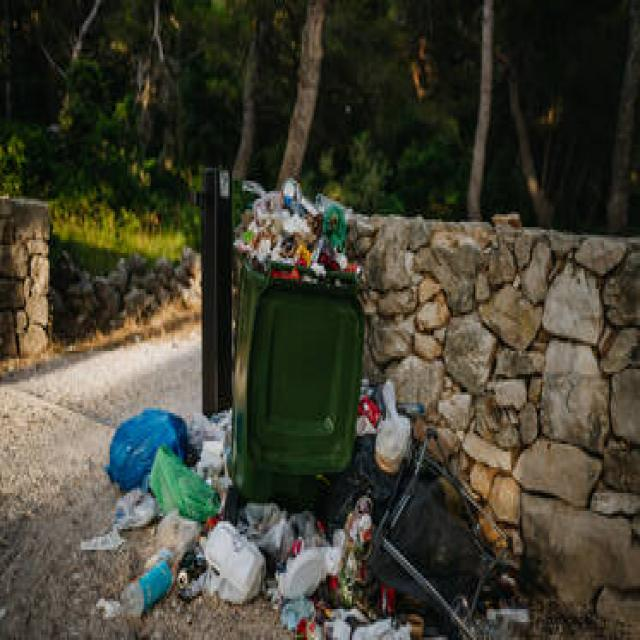garbage: (82, 380, 515, 638), (228, 175, 366, 506), (232, 173, 357, 279), (104, 405, 188, 490), (148, 444, 222, 521), (202, 519, 266, 604), (372, 377, 412, 472), (118, 552, 174, 617)
